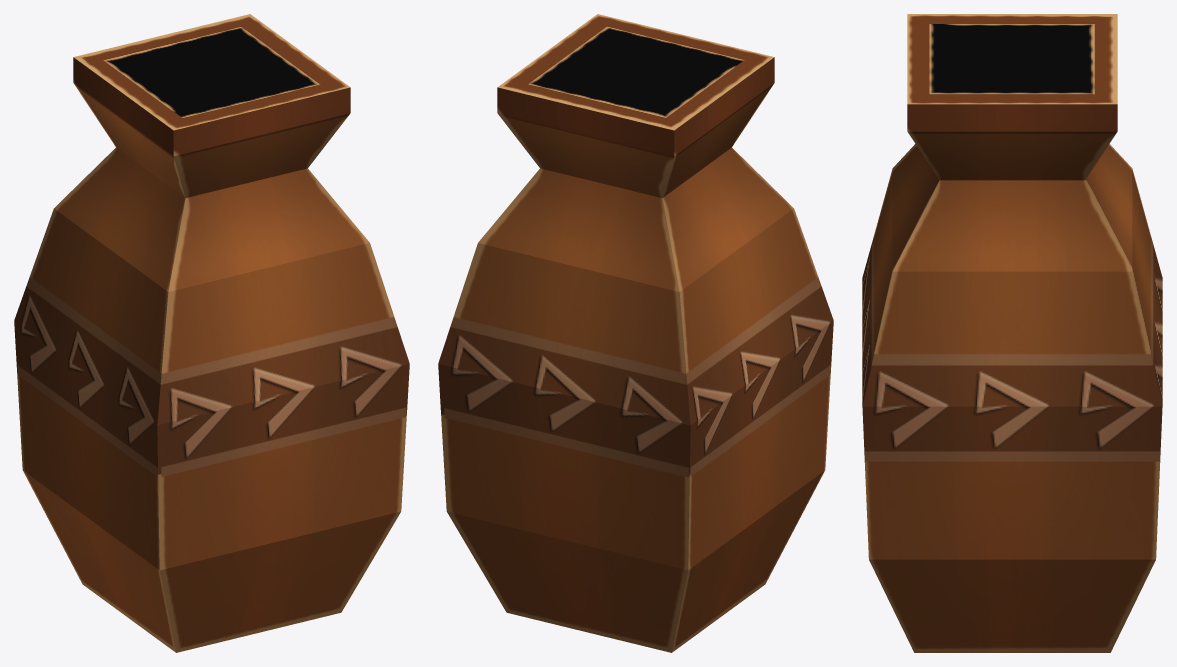
The model's file is Vase.FBX.
The picture shows the model from 3 angles, left to right: view 1: azimuth 30°, elevation 25°; view 2: azimuth 150°, elevation 25°; view 3: azimuth 270°, elevation 25°; orthographic projection. The views are drawn at different scales.
Visible parts, largest first — view 1: Box017; view 2: Box017; view 3: Box017.
Part boxes in pixels (x1,y1,x2,y2): Box017: (14,14,409,652); Box017: (438,14,833,652); Box017: (862,14,1162,652).
Bounding box in the file's own units: 123 × 245 × 121.
